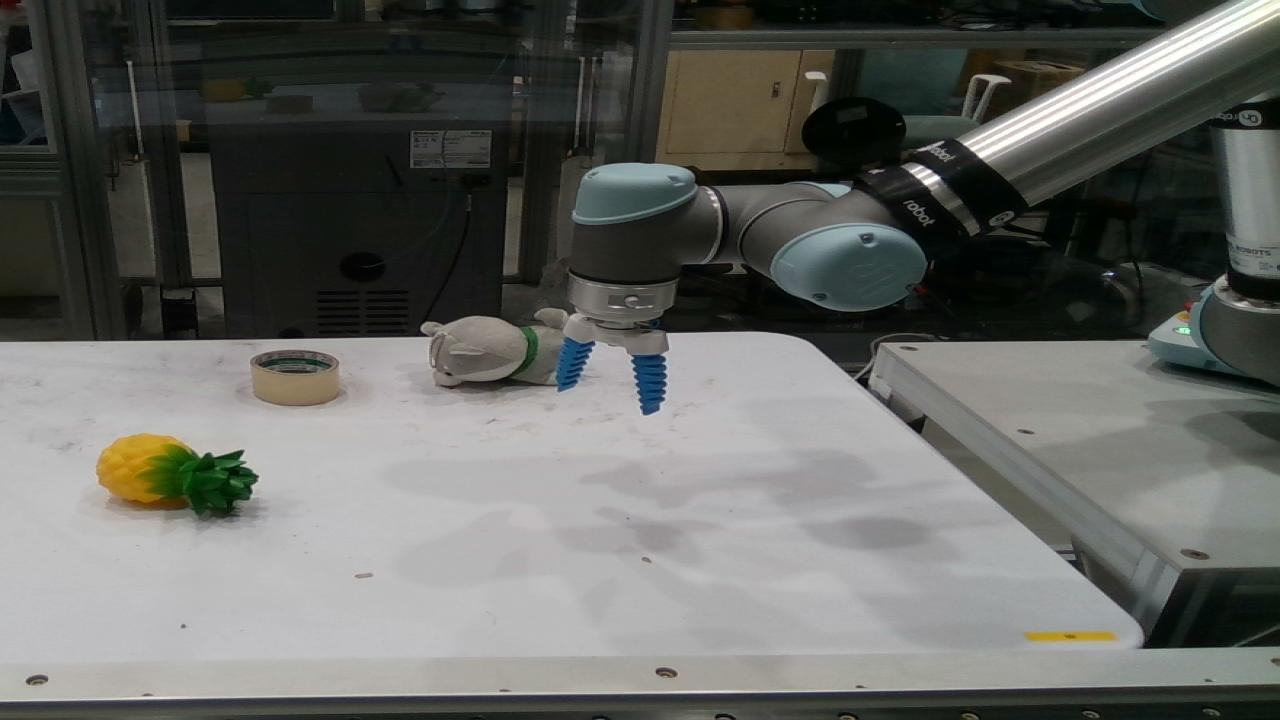UR5: (574, 4, 1274, 384)
gripper_left: (558, 340, 590, 389)
gripper_right: (633, 355, 665, 415)
target: (424, 307, 594, 388), (98, 435, 254, 514), (252, 351, 336, 404)
